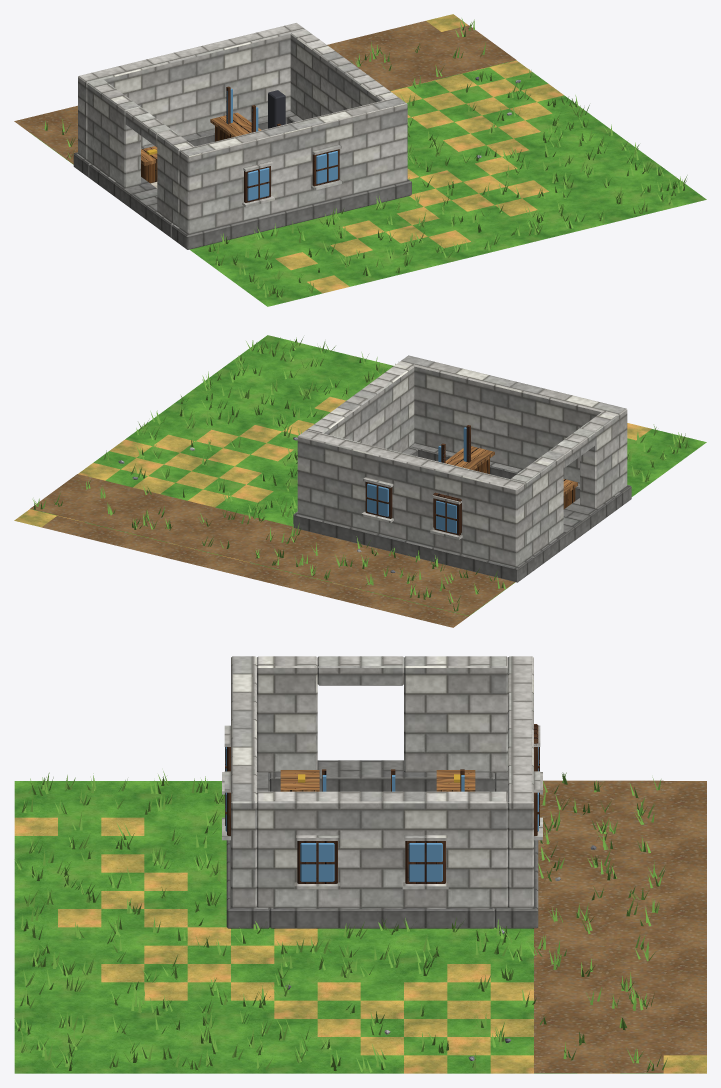
File: chunk_7_11.glb
3 views of the same model, one above another, from view 1: azimuth 30°, elevation 25°; view 2: azimuth 150°, elevation 25°; view 3: azimuth 270°, elevation 25° (orthographic). The views are drawn at different scales.
Visible parts, largest first — view 1: chunk_7_11; view 2: chunk_7_11; view 3: chunk_7_11.
Boxes of the visible parts, x1=… form: chunk_7_11: x1=14, y1=14, x2=706, y2=306; chunk_7_11: x1=14, y1=335, x2=706, y2=627; chunk_7_11: x1=14, y1=656, x2=706, y2=1073.
Size of the model in its own units: 16.17 by 3.25 by 16.01.
Materials: 16 (12 with a texture image).
